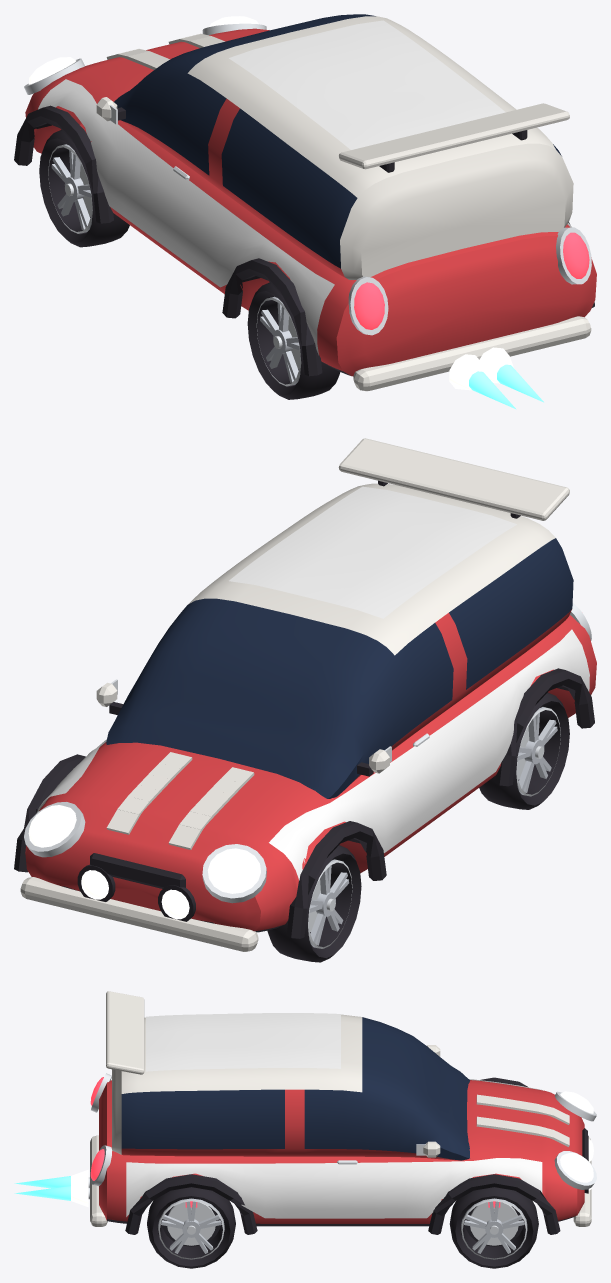
Rendered from car_mini.glb.
The picture shows the model from 3 angles, top to bottom: view 1: azimuth 30°, elevation 25°; view 2: azimuth 150°, elevation 25°; view 3: azimuth 270°, elevation 25°; orthographic projection. The views are drawn at different scales.
Parts seen in each view (by area): view 1: Body, Vinyl, WheelRL, WheelFL, Spoiler, NitroFlame; view 2: Body, Vinyl, Spoiler, WheelFL, WheelRL; view 3: Body, Vinyl, WheelFR, WheelRR, Spoiler, NitroFlame.
Part boxes in pixels (x1,y1,x2,y2): Body: (14, 14, 596, 391); Vinyl: (38, 20, 571, 355); WheelRL: (247, 282, 340, 399); WheelFL: (39, 130, 129, 247); Spoiler: (339, 103, 569, 172); NitroFlame: (449, 347, 543, 409); Body: (14, 483, 596, 951); Vinyl: (36, 486, 589, 880); Spoiler: (338, 438, 569, 520); WheelFL: (267, 845, 361, 962); WheelRL: (479, 692, 569, 809); Body: (88, 1014, 596, 1234); Vinyl: (126, 1013, 542, 1218); WheelFR: (449, 1187, 538, 1268); WheelRR: (147, 1187, 235, 1268); Spoiler: (106, 991, 144, 1074); NitroFlame: (14, 1169, 88, 1207).
Bounding box in the file's own units: 1.86 × 1.67 × 4.48.
